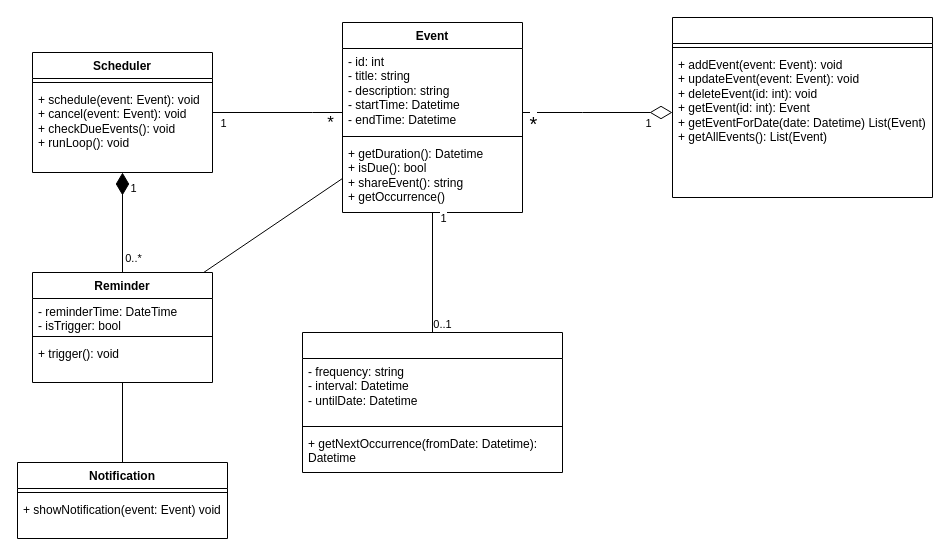
Image size: 950x559. Some labels were removed from this diagram. Here are the shapes that lost their labels. From the top down, the box of each, then its label:
(672, 16, 932, 198): EventRepository
(302, 332, 562, 472): Recurrence
